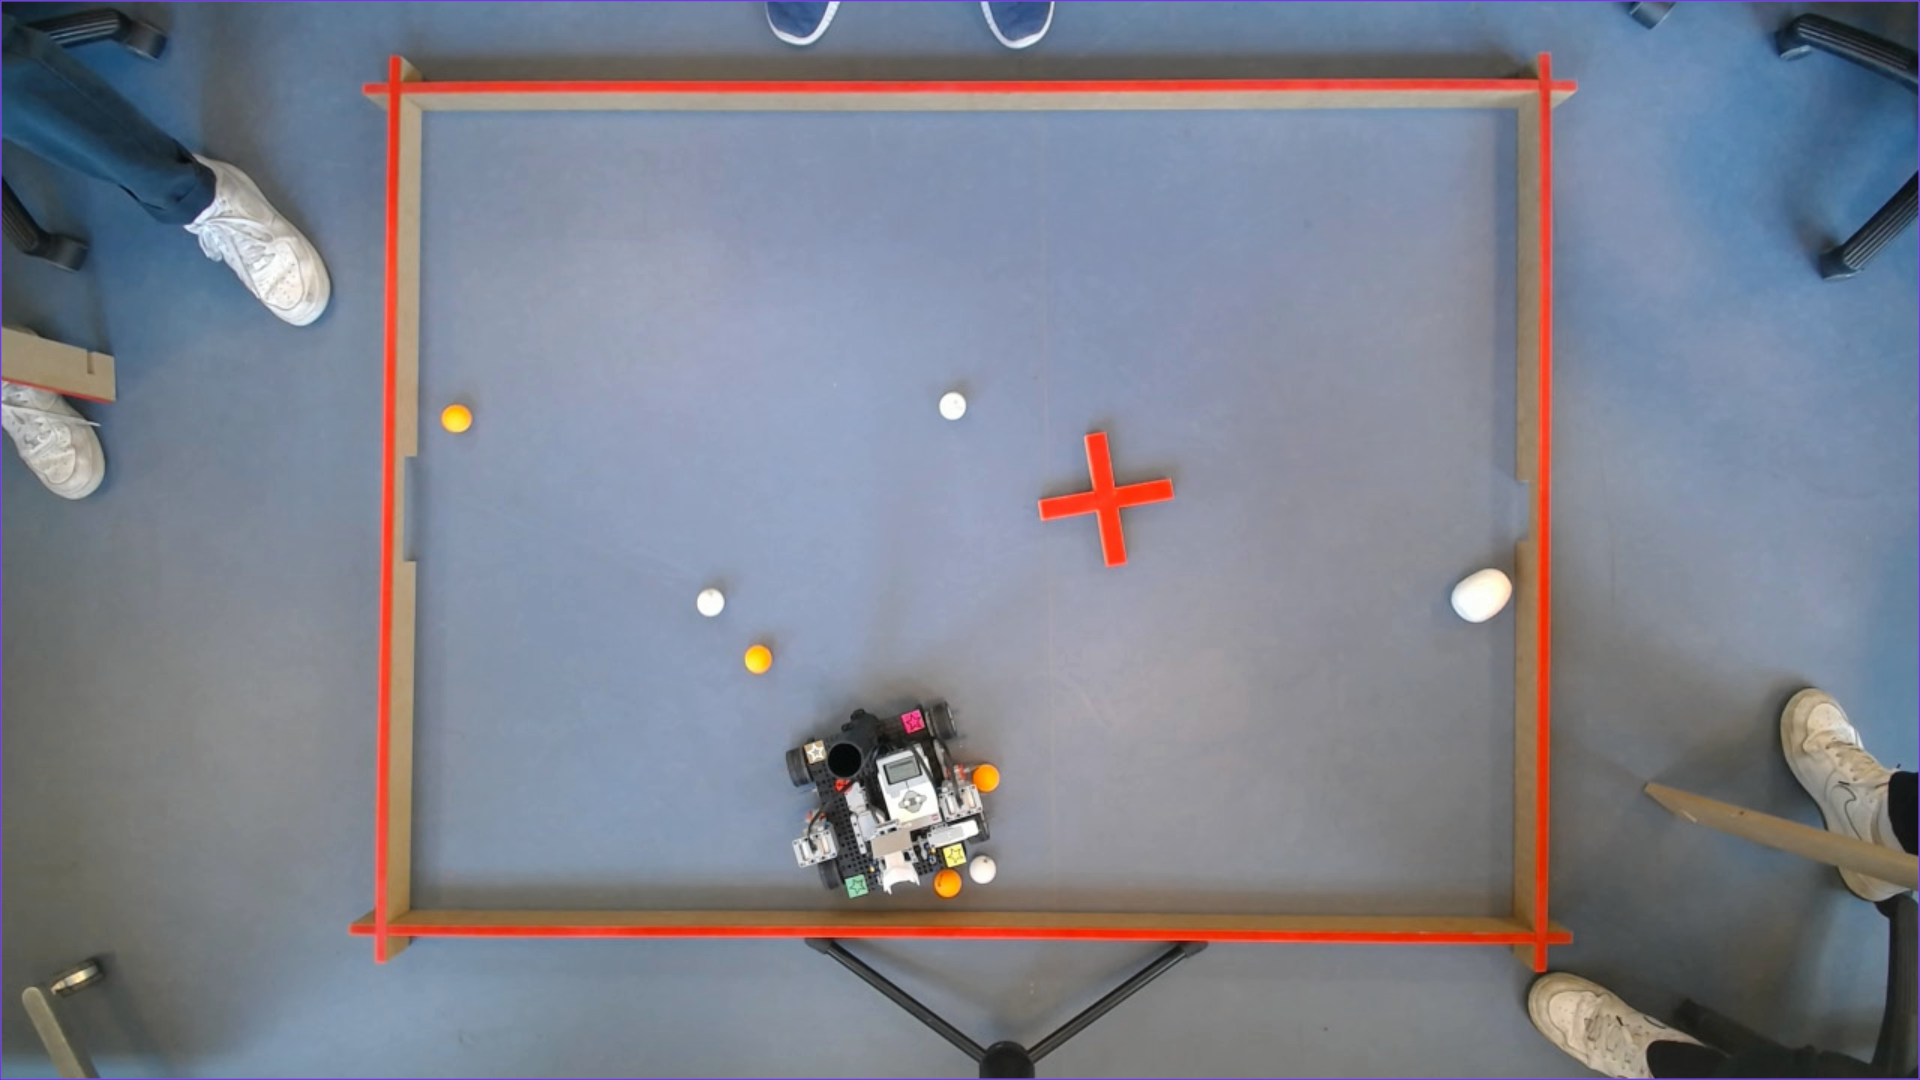ball_orange: (439, 402, 469, 431), (975, 762, 1004, 790), (742, 645, 770, 669), (935, 872, 959, 891)
ball_white: (694, 589, 725, 616), (971, 857, 996, 882), (939, 392, 965, 415)
corner_brown: (802, 738, 825, 760)
corner_green: (844, 872, 870, 897)
corner_pink: (899, 707, 924, 729)
corner_yellow: (943, 844, 968, 865)
cross: (1035, 427, 1180, 567)
egg: (1452, 567, 1513, 620)
playfield: (369, 75, 1559, 947)
